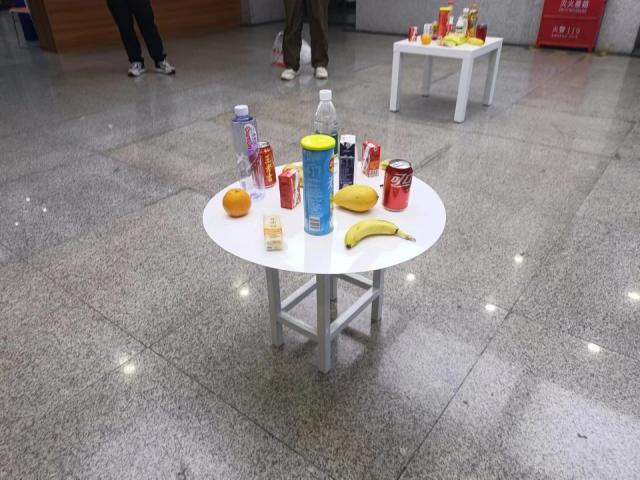Canned_drinks: (384, 159, 414, 213), (250, 141, 276, 188)
bottle: (230, 104, 266, 200), (313, 88, 339, 169)
cylinder: (300, 134, 338, 237)
drink_box: (338, 134, 357, 192), (278, 168, 302, 210), (361, 140, 382, 177)
